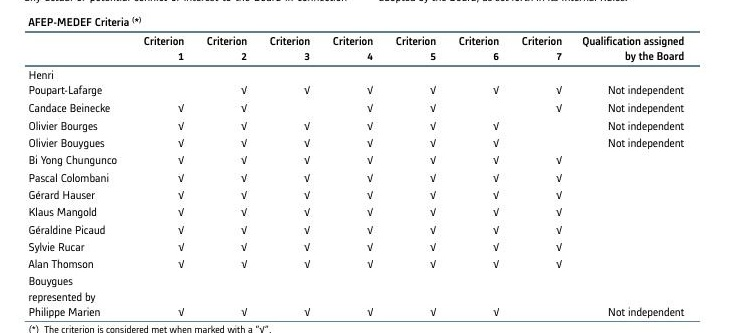table: (0, 0, 730, 333)
